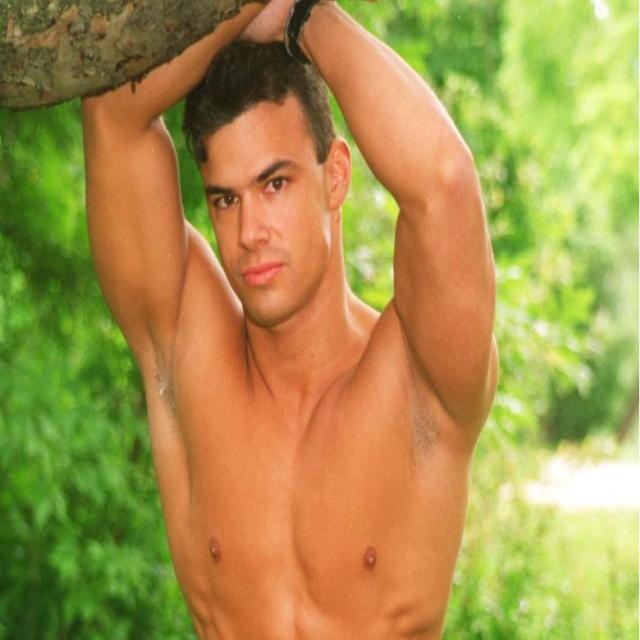human: (83, 2, 499, 631)
